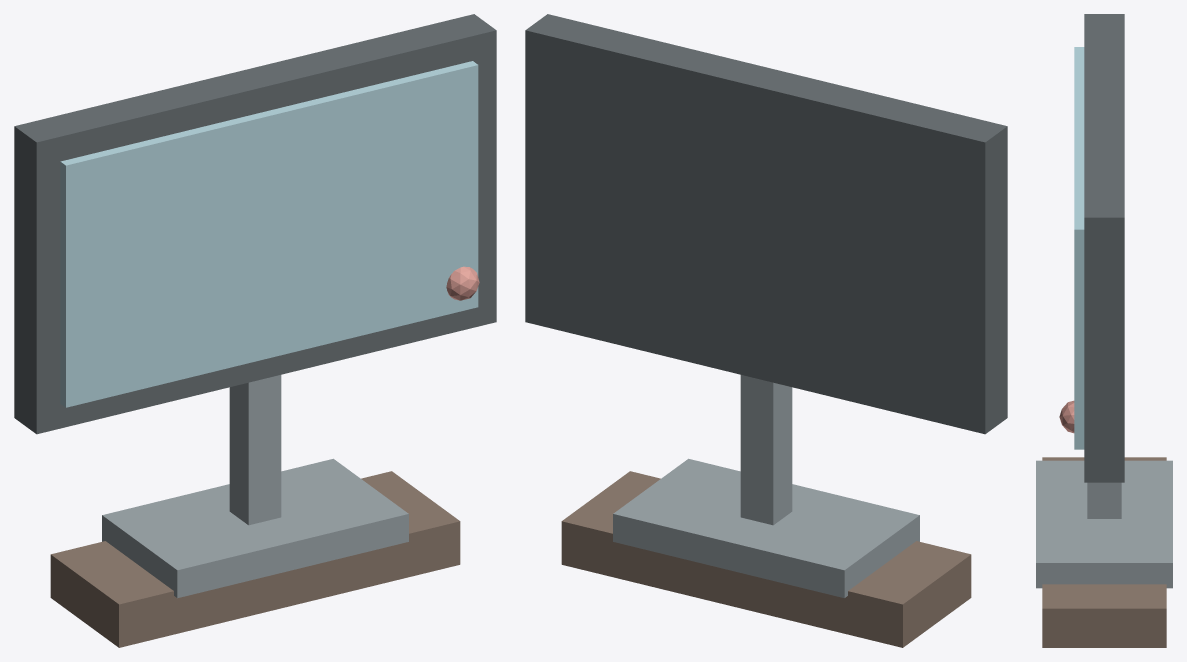
The model's file is television_basic.glb.
3 renders of one model, left to right at view 1: azimuth 30°, elevation 25°; view 2: azimuth 150°, elevation 25°; view 3: azimuth 270°, elevation 25°, orthographic. The views are drawn at different scales.
Parts seen in each view (by area): view 1: part_01, part_00, part_03, part_04, part_02, part_05; view 2: part_00, part_03, part_04, part_02; view 3: part_00, part_03, part_04, part_01, part_02, part_05.
Boxes of the visible parts, x1,y1,x2,y2 form: part_01: [60, 61, 478, 407]; part_00: [14, 14, 496, 434]; part_03: [102, 458, 408, 598]; part_04: [50, 471, 460, 647]; part_02: [229, 375, 281, 525]; part_05: [446, 266, 479, 300]; part_00: [525, 14, 1007, 434]; part_03: [613, 458, 919, 598]; part_04: [561, 471, 971, 647]; part_02: [740, 375, 792, 525]; part_00: [1084, 14, 1124, 482]; part_03: [1036, 460, 1172, 588]; part_04: [1042, 457, 1166, 647]; part_01: [1074, 47, 1084, 449]; part_02: [1087, 482, 1121, 518]; part_05: [1059, 400, 1074, 433].
Size of the model in its own units: 1.55 by 1.62 by 0.44.
